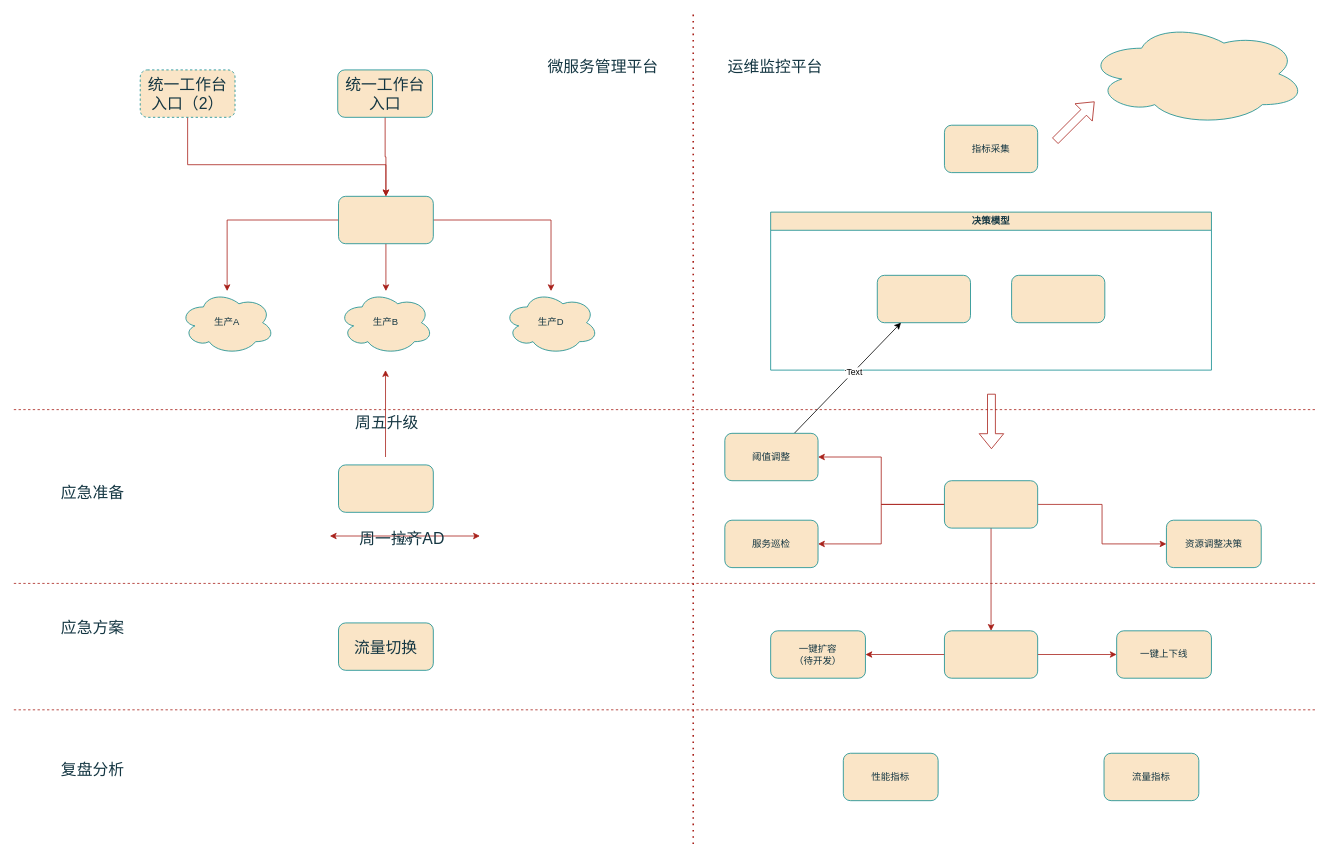
Some shapes in this 1332 by 859 pixel diagram are drawn without their labels. The shapes that lost their labels are listed below. From the top down, each one's centre as x and y in pixels, then its label:
At [1196,73]: "应用容器云".
At [385,220]: "承保流量切换".
At [924,299]: "加权打分 (传统阈值)".
At [1058,299]: "异常检测 （指标波动）".
At [385,488]: "版本管理".
At [991,504]: "数据存储".
At [991,654]: "告警推送".
